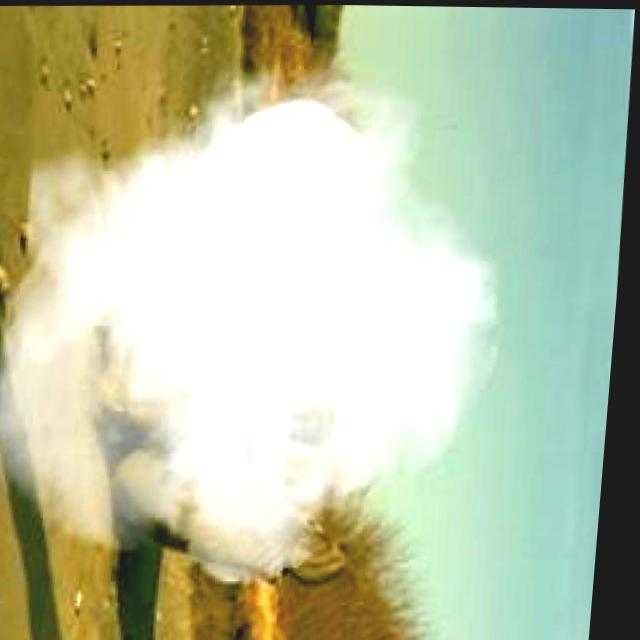no_helmet: (0, 32, 533, 591)
